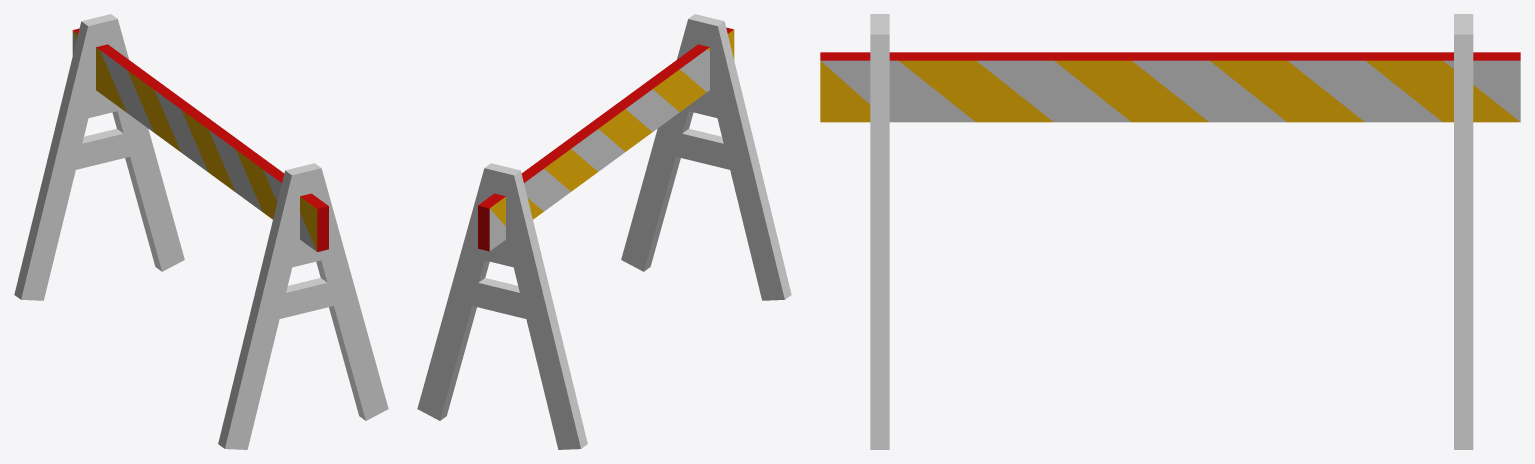
Rendered from Roadblock2.dae.
3 views of the same model, side by side, from view 1: azimuth 30°, elevation 25°; view 2: azimuth 150°, elevation 25°; view 3: azimuth 270°, elevation 25° (orthographic). The views are drawn at different scales.
Visible parts, largest first — view 1: Component_58 (×4), Component_59 (×10); view 2: Component_58 (×4), Component_59 (×10); view 3: Component_59 (×11), Component_58 (×2).
Boxes of the visible parts, x1,y1,x2,y2 form: Component_58 (×4): (14, 14, 388, 449); Component_59 (×10): (73, 28, 328, 251); Component_58 (×4): (417, 14, 791, 449); Component_59 (×10): (478, 27, 733, 251); Component_59 (×11): (820, 52, 1520, 122); Component_58 (×2): (870, 14, 1473, 449).
Bounding box in the file's own units: 27.84 × 72 × 42.85.
